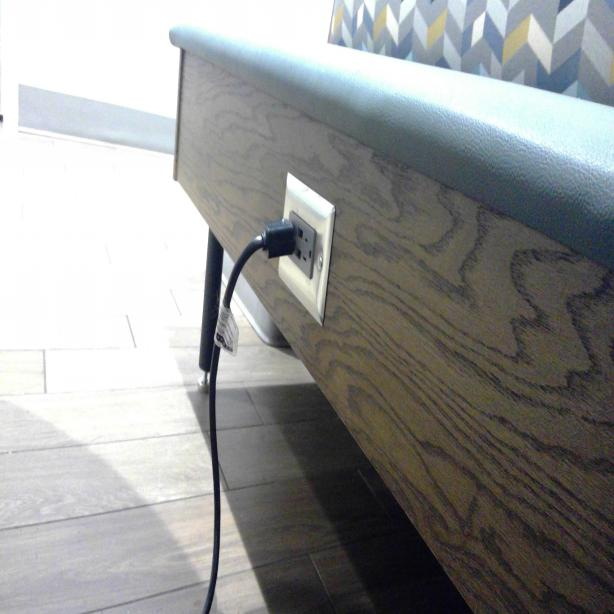typeb: (302, 232, 312, 269)
